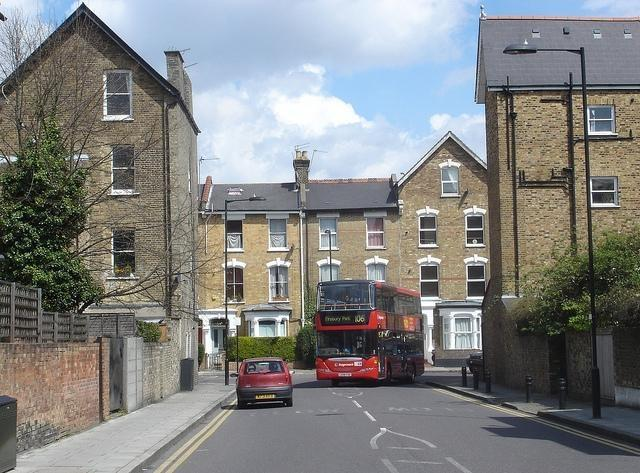bus: (316, 280, 426, 388)
car: (236, 355, 293, 406), (467, 352, 485, 372)
